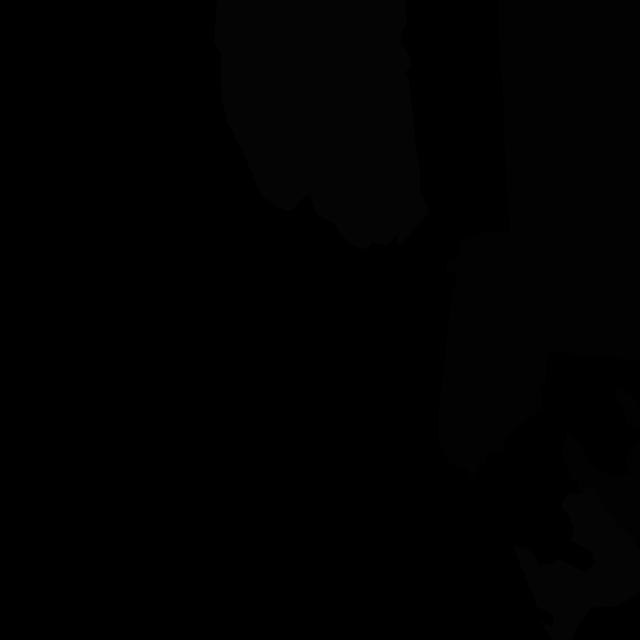cardboard: (498, 0, 640, 361), (438, 223, 557, 480), (562, 386, 640, 550)
soft_plastic: (214, 0, 430, 249), (512, 486, 640, 640)
